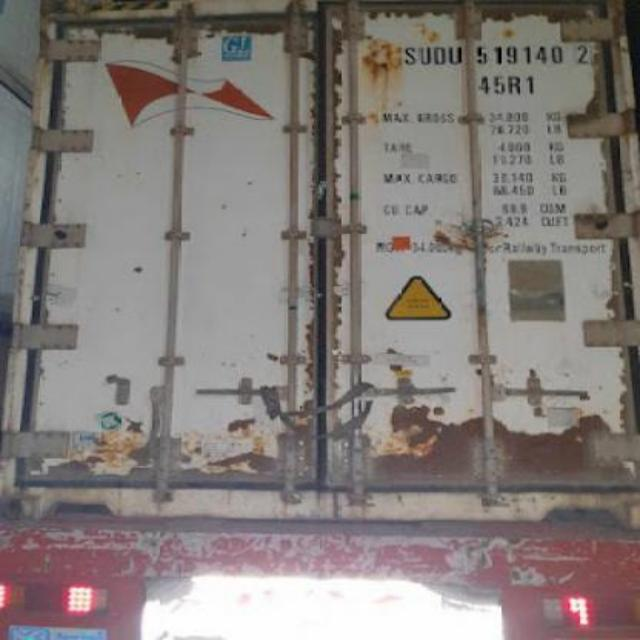0: (550, 44, 566, 66)
1: (492, 45, 503, 67), (524, 44, 532, 66)
2: (572, 42, 592, 68)
4: (535, 44, 547, 66)
5: (475, 45, 489, 65)
9: (505, 44, 519, 66)
D: (432, 45, 446, 67)
S: (403, 45, 417, 69)
U: (448, 46, 464, 66), (420, 45, 432, 67)
